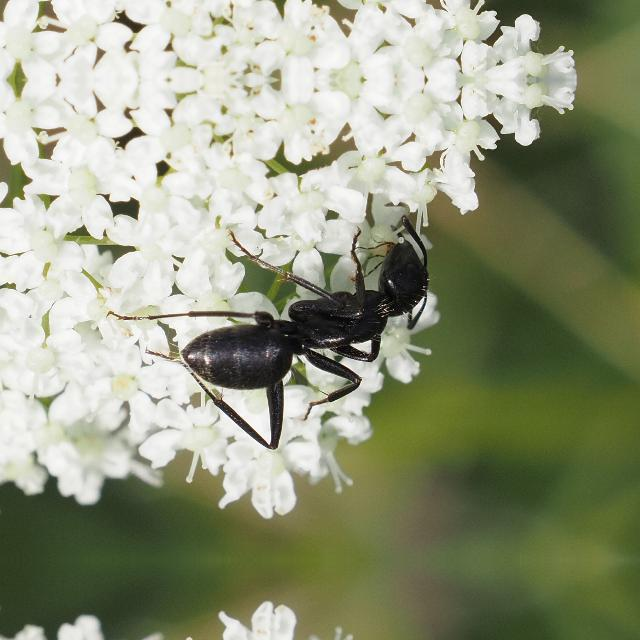Camponotus: (163, 205, 451, 442)
